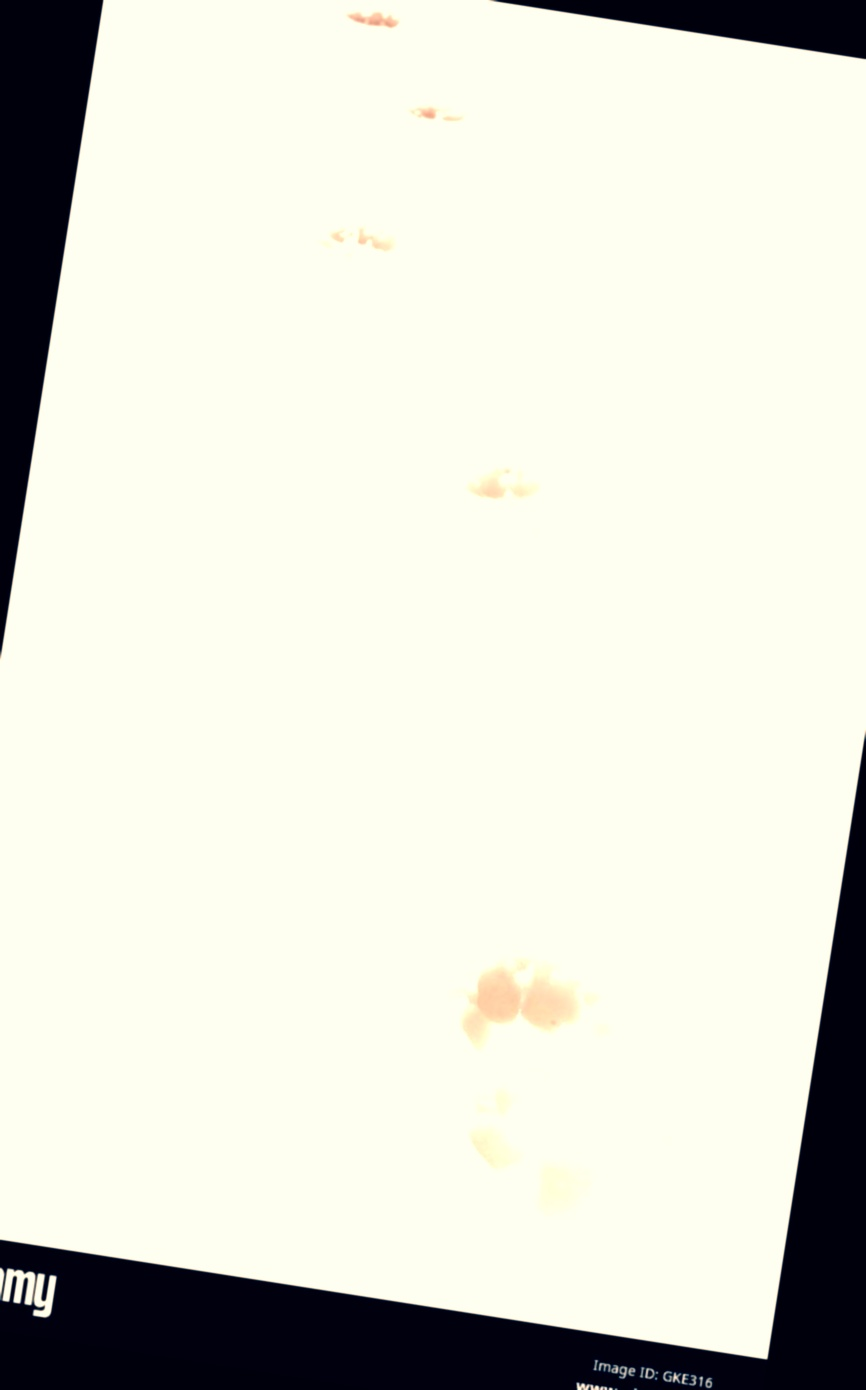loup: (444, 877, 795, 1235)
